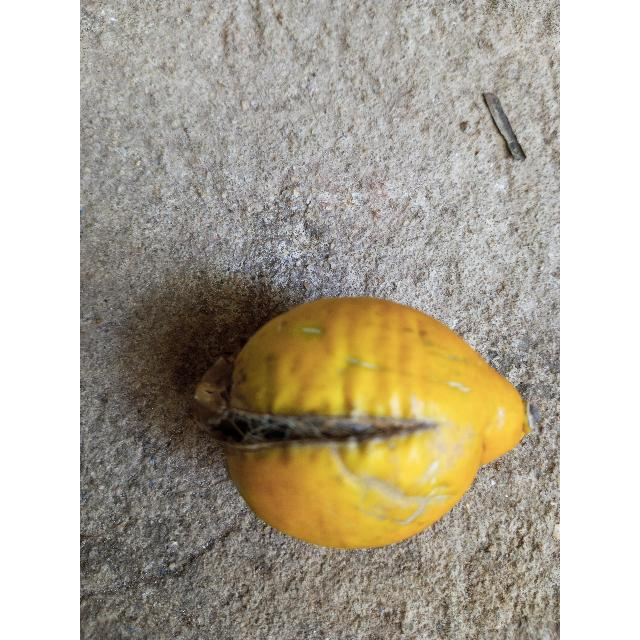damaged: (194, 297, 531, 551)
